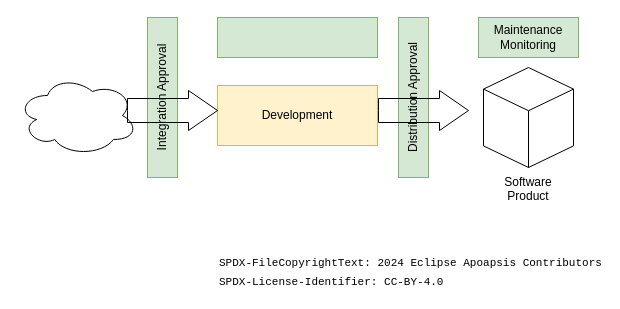
Image size: 620x309. Some labels were removed from this diagram. The box of each missing label's shape, as (x1, y1, x2, y2) in pixels:
Development Monitoring: (216, 16, 378, 58)
Open Source Components: (16, 74, 138, 156)
